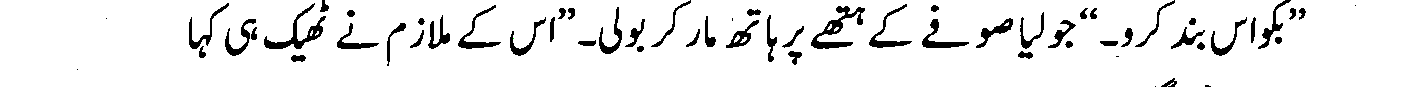bay_shosha: (1271, 20, 1283, 44)
